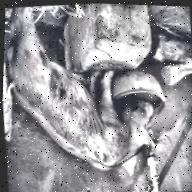boar: (0, 0, 169, 188)
